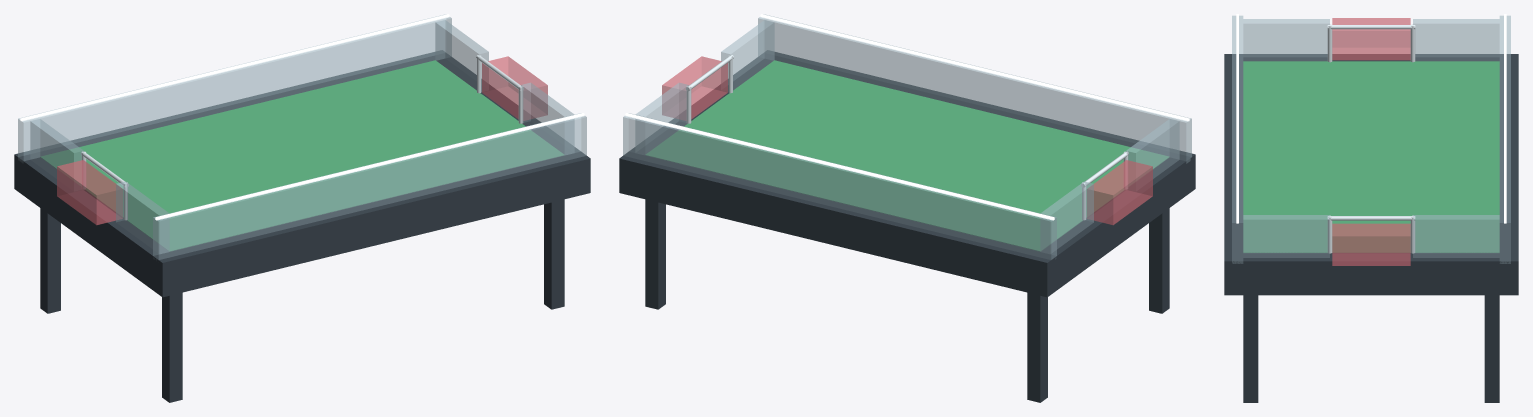
The model's file is fuzeball_table_classic_glass.glb.
The picture shows the model from 3 angles, left to right: view 1: azimuth 30°, elevation 25°; view 2: azimuth 150°, elevation 25°; view 3: azimuth 270°, elevation 25°; orthographic projection.
Parts seen in each view (by area): view 1: field, table_base, wall_side_near, wall_side_far, goal_net_left, goal_net_right, wall_end_l_near, wall_end_r_far, table_leg.001, table_leg.003, wall_end_l_far, table_leg (+5 smaller); view 2: field, table_base, wall_side_far, wall_side_near, goal_net_left, goal_net_right, wall_end_l_far, wall_end_r_near, table_leg, table_leg.002, wall_end_l_near, table_leg.001 (+5 smaller); view 3: field, table_base, wall_end_r_far, wall_end_r_near, wall_end_l_far, wall_end_l_near, goal_net_right, goal_net_left, wall_side_far, wall_side_near, table_leg.002, table_leg.003 (+4 smaller).
Boxes of the visible parts, x1,y1,x2,y2 form: field: (41, 60, 563, 251); table_base: (14, 50, 590, 297); wall_side_near: (153, 113, 586, 259); wall_side_far: (18, 14, 451, 162); goal_net_left: (57, 160, 122, 225); goal_net_right: (482, 56, 547, 120); wall_end_l_near: (116, 181, 169, 253); wall_end_r_far: (435, 20, 488, 91); table_leg.001: (162, 292, 182, 402); table_leg.003: (544, 199, 564, 309); wall_end_l_far: (30, 119, 83, 186); table_leg: (40, 208, 60, 313); field: (646, 60, 1168, 251); table_base: (619, 50, 1195, 297); wall_side_far: (623, 113, 1056, 259); wall_side_near: (758, 14, 1191, 163); goal_net_left: (1087, 160, 1152, 225); goal_net_right: (662, 56, 727, 120); wall_end_l_far: (1040, 181, 1093, 253); wall_end_r_near: (721, 20, 774, 91); table_leg: (1027, 292, 1047, 402); table_leg.002: (645, 199, 665, 309); wall_end_l_near: (1126, 119, 1179, 185); table_leg.001: (1149, 208, 1169, 313); field: (1243, 61, 1499, 252); table_base: (1224, 54, 1518, 295); wall_end_r_far: (1413, 215, 1499, 257); wall_end_r_near: (1243, 215, 1329, 257); wall_end_l_far: (1413, 19, 1499, 60); wall_end_l_near: (1243, 19, 1329, 60); goal_net_right: (1332, 223, 1410, 265); goal_net_left: (1332, 18, 1410, 60); wall_side_far: (1499, 15, 1510, 263); wall_side_near: (1232, 15, 1243, 263); table_leg.002: (1484, 295, 1499, 402); table_leg.003: (1243, 295, 1258, 402).
Bounding box in the file's own units: 137 × 55.5 × 78.
